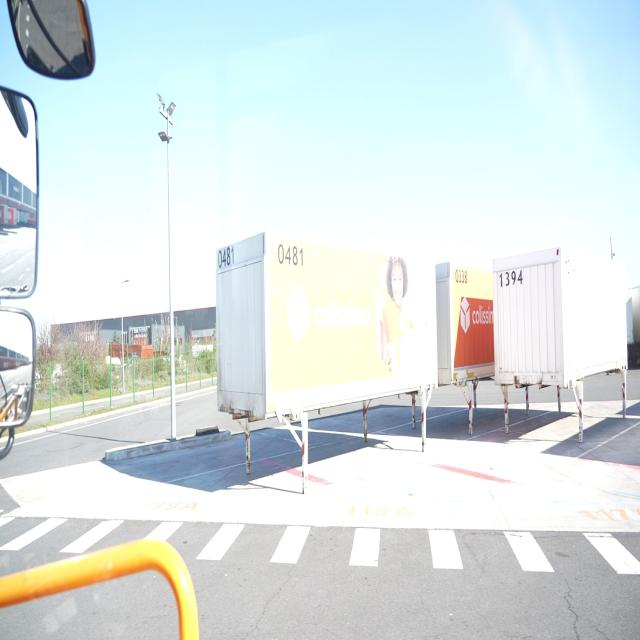Code: (274, 241, 306, 271), (496, 267, 526, 290), (215, 243, 238, 272), (452, 268, 469, 284)
